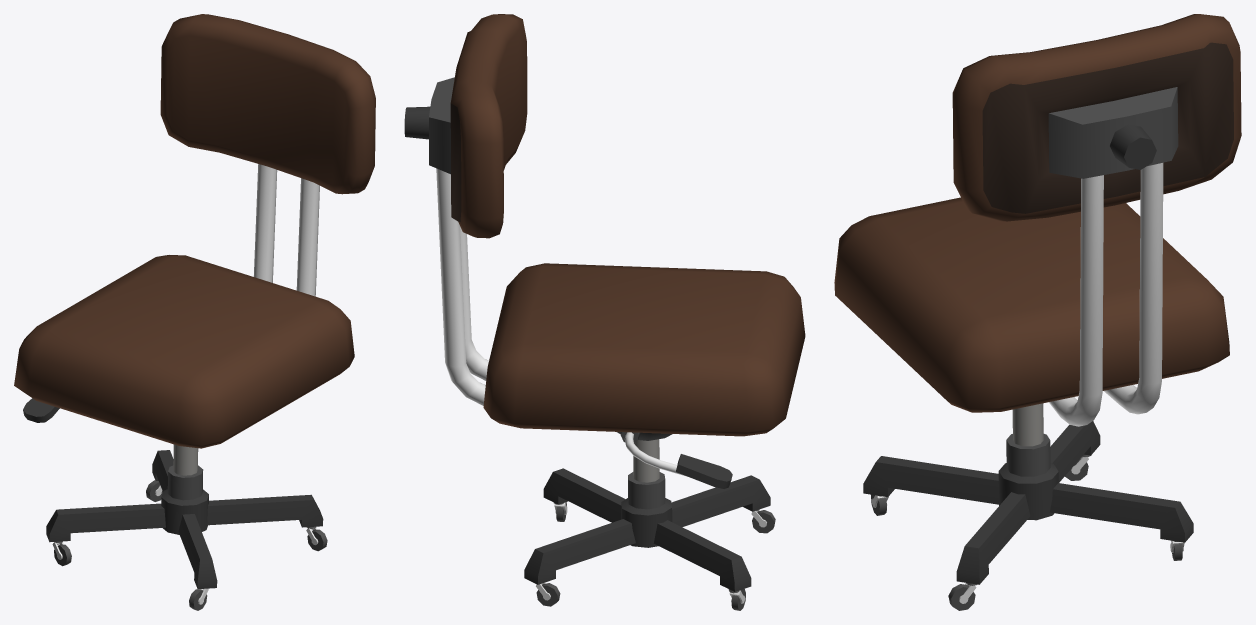
The model's file is chair.glb.
3 views of the same model, side by side, from view 1: azimuth 30°, elevation 25°; view 2: azimuth 150°, elevation 25°; view 3: azimuth 270°, elevation 25° (orthographic). The views are drawn at different scales.
Visible parts, largest first — view 1: Cube.004_4, Cube.004_6, Cube.004_2, Cube.004_1, Cube.004_0; view 2: Cube.004_4, Cube.004_6, Cube.004_2, Cube.004_1, Cube.004_5, Cube.004_0; view 3: Cube.004_4, Cube.004_5, Cube.004_6, Cube.004_2, Cube.004_1, Cube.004_0.
Part boxes in pixels (<box>): Cube.004_4: <box>14,14,375,448</box>; Cube.004_6: <box>23,398,323,588</box>; Cube.004_2: <box>52,164,319,604</box>; Cube.004_1: <box>54,465,327,610</box>; Cube.004_0: <box>173,444,198,475</box>; Cube.004_4: <box>450,14,805,436</box>; Cube.004_6: <box>404,106,770,591</box>; Cube.004_2: <box>436,168,766,603</box>; Cube.004_1: <box>429,77,775,610</box>; Cube.004_5: <box>450,103,461,221</box>; Cube.004_0: <box>633,439,659,482</box>; Cube.004_4: <box>834,14,1241,412</box>; Cube.004_5: <box>982,42,1233,213</box>; Cube.004_6: <box>863,124,1193,584</box>; Cube.004_2: <box>872,163,1184,603</box>; Cube.004_1: <box>871,87,1182,610</box>; Cube.004_0: <box>1012,403,1043,446</box>.
Size of the model in its own units: 1.03 by 1.41 by 0.8991.
